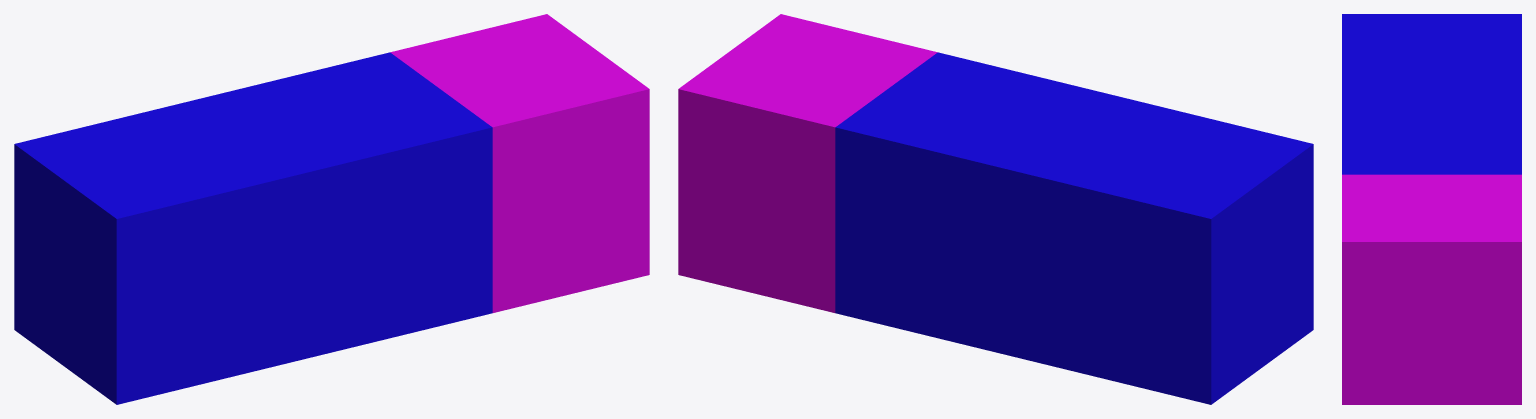
The model's file is RaceCar1.fbx.
3 renders of one model, left to right at view 1: azimuth 30°, elevation 25°; view 2: azimuth 150°, elevation 25°; view 3: azimuth 270°, elevation 25°, orthographic. The views are drawn at different scales.
Visible parts, largest first — view 1: Cube; view 2: Cube; view 3: Cube.
Boxes of the visible parts, box(x1,y1,x2,y2) form: Cube: box(14, 14, 649, 404); Cube: box(678, 14, 1313, 404); Cube: box(1342, 14, 1521, 404).
Bounding box in the file's own units: 600 × 200 × 200.
